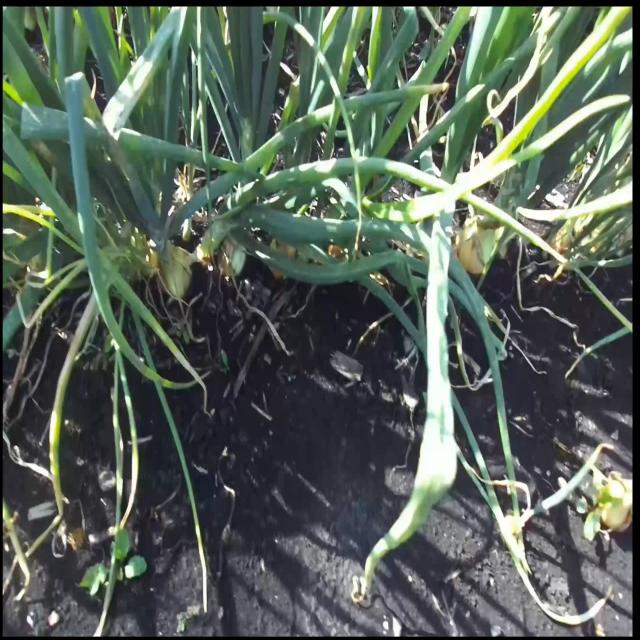onion: (456, 212, 499, 278), (599, 476, 633, 534), (156, 243, 189, 299), (215, 232, 246, 276)
